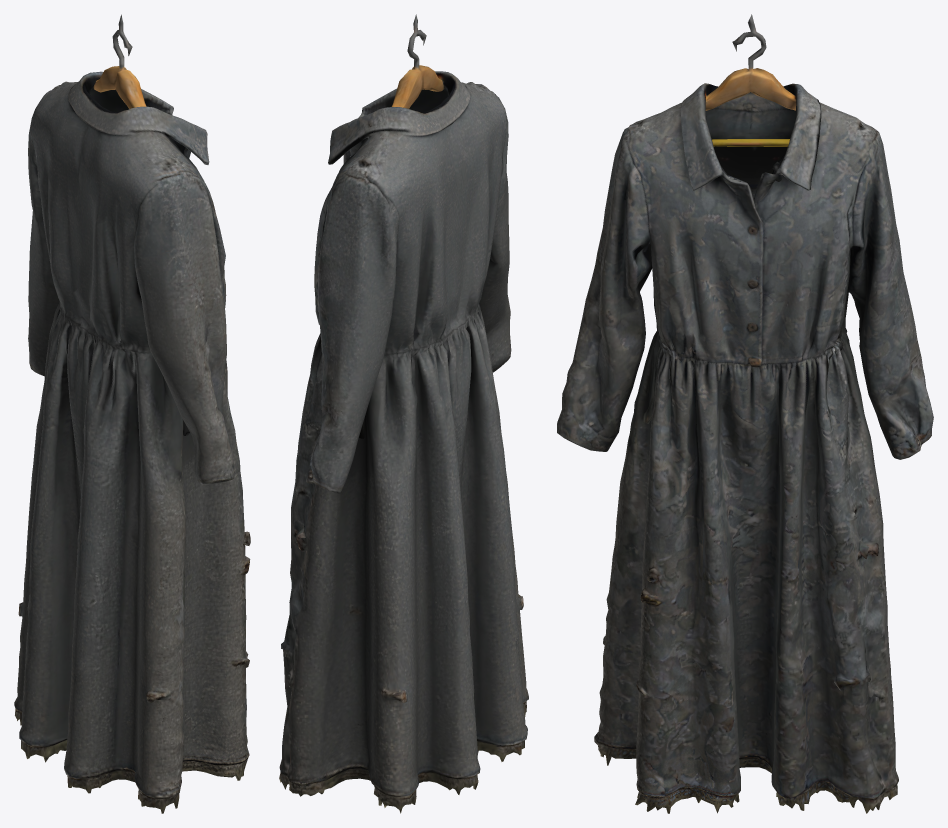
Rendered from scene-clothes-hanging-dress-v03.glb.
3 views of the same model, side by side, from view 1: azimuth 30°, elevation 25°; view 2: azimuth 150°, elevation 25°; view 3: azimuth 270°, elevation 25° (orthographic). The views are drawn at different scales.
Parts seen in each view (by area): view 1: tripo_node_dbc4f87b-5c83-4f67-8516-d61ae0ca98f5; view 2: tripo_node_dbc4f87b-5c83-4f67-8516-d61ae0ca98f5; view 3: tripo_node_dbc4f87b-5c83-4f67-8516-d61ae0ca98f5.
Part boxes in pixels (x1=…): tripo_node_dbc4f87b-5c83-4f67-8516-d61ae0ca98f5: x1=14, y1=14, x2=250, y2=813; tripo_node_dbc4f87b-5c83-4f67-8516-d61ae0ca98f5: x1=279, y1=14, x2=528, y2=813; tripo_node_dbc4f87b-5c83-4f67-8516-d61ae0ca98f5: x1=557, y1=14, x2=933, y2=813.
Bounding box in the file's own units: 0.3001 × 1.3 × 0.5815.
Materials: 1 (1 with a texture image).
